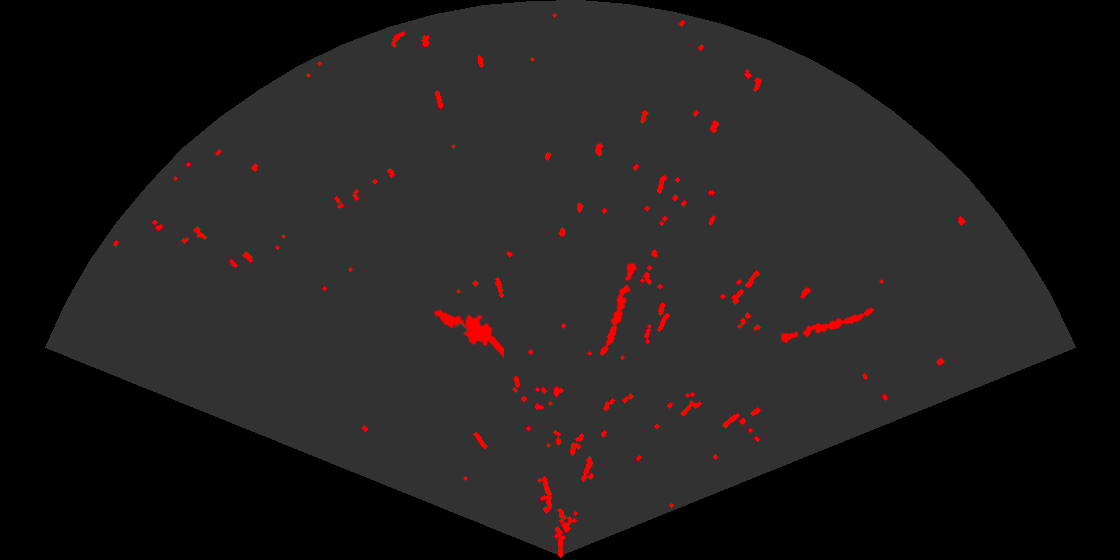chain: (598, 261, 639, 357), (778, 306, 876, 345)
frogman: (432, 308, 504, 360)
